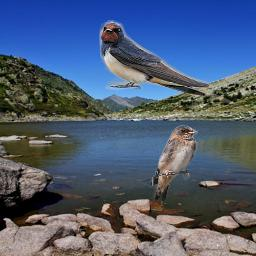Swallow: (99, 20, 244, 107), (149, 125, 198, 201)
